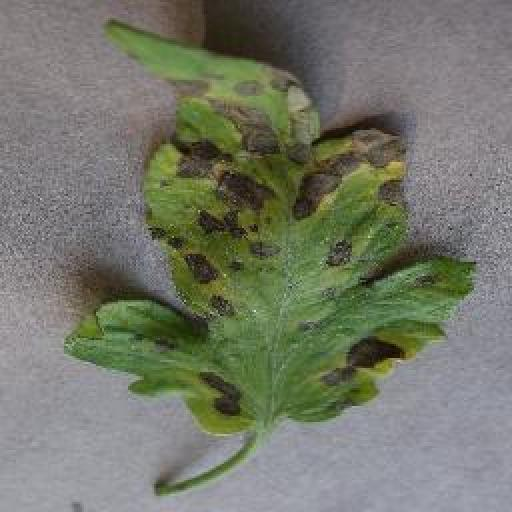Early Blight: (59, 18, 482, 442)
